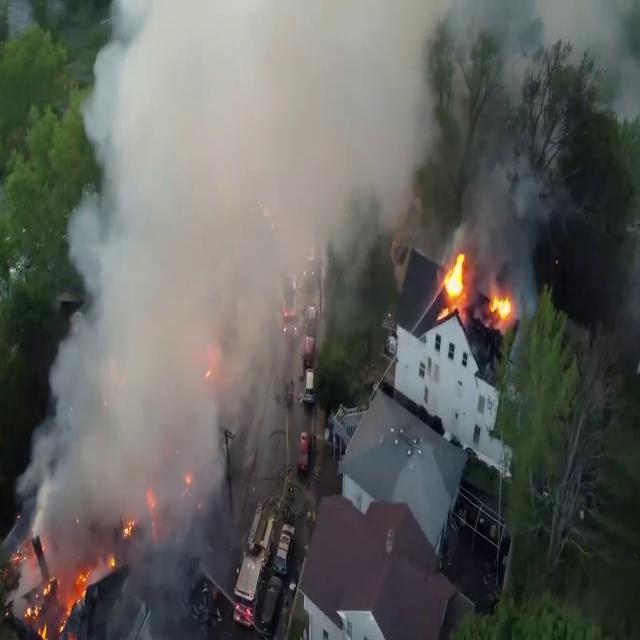Fire: (26, 561, 94, 639), (436, 248, 471, 314), (486, 284, 518, 331)
Smoke: (24, 0, 442, 517), (451, 135, 555, 324)
